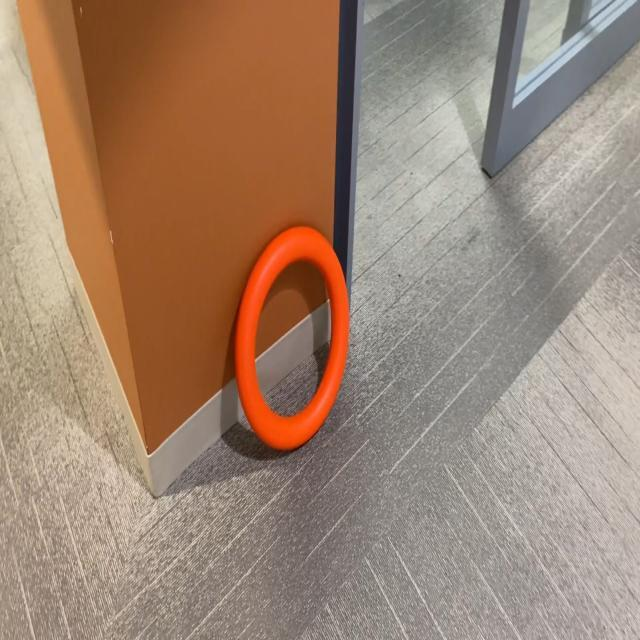note: (233, 222, 353, 456)
